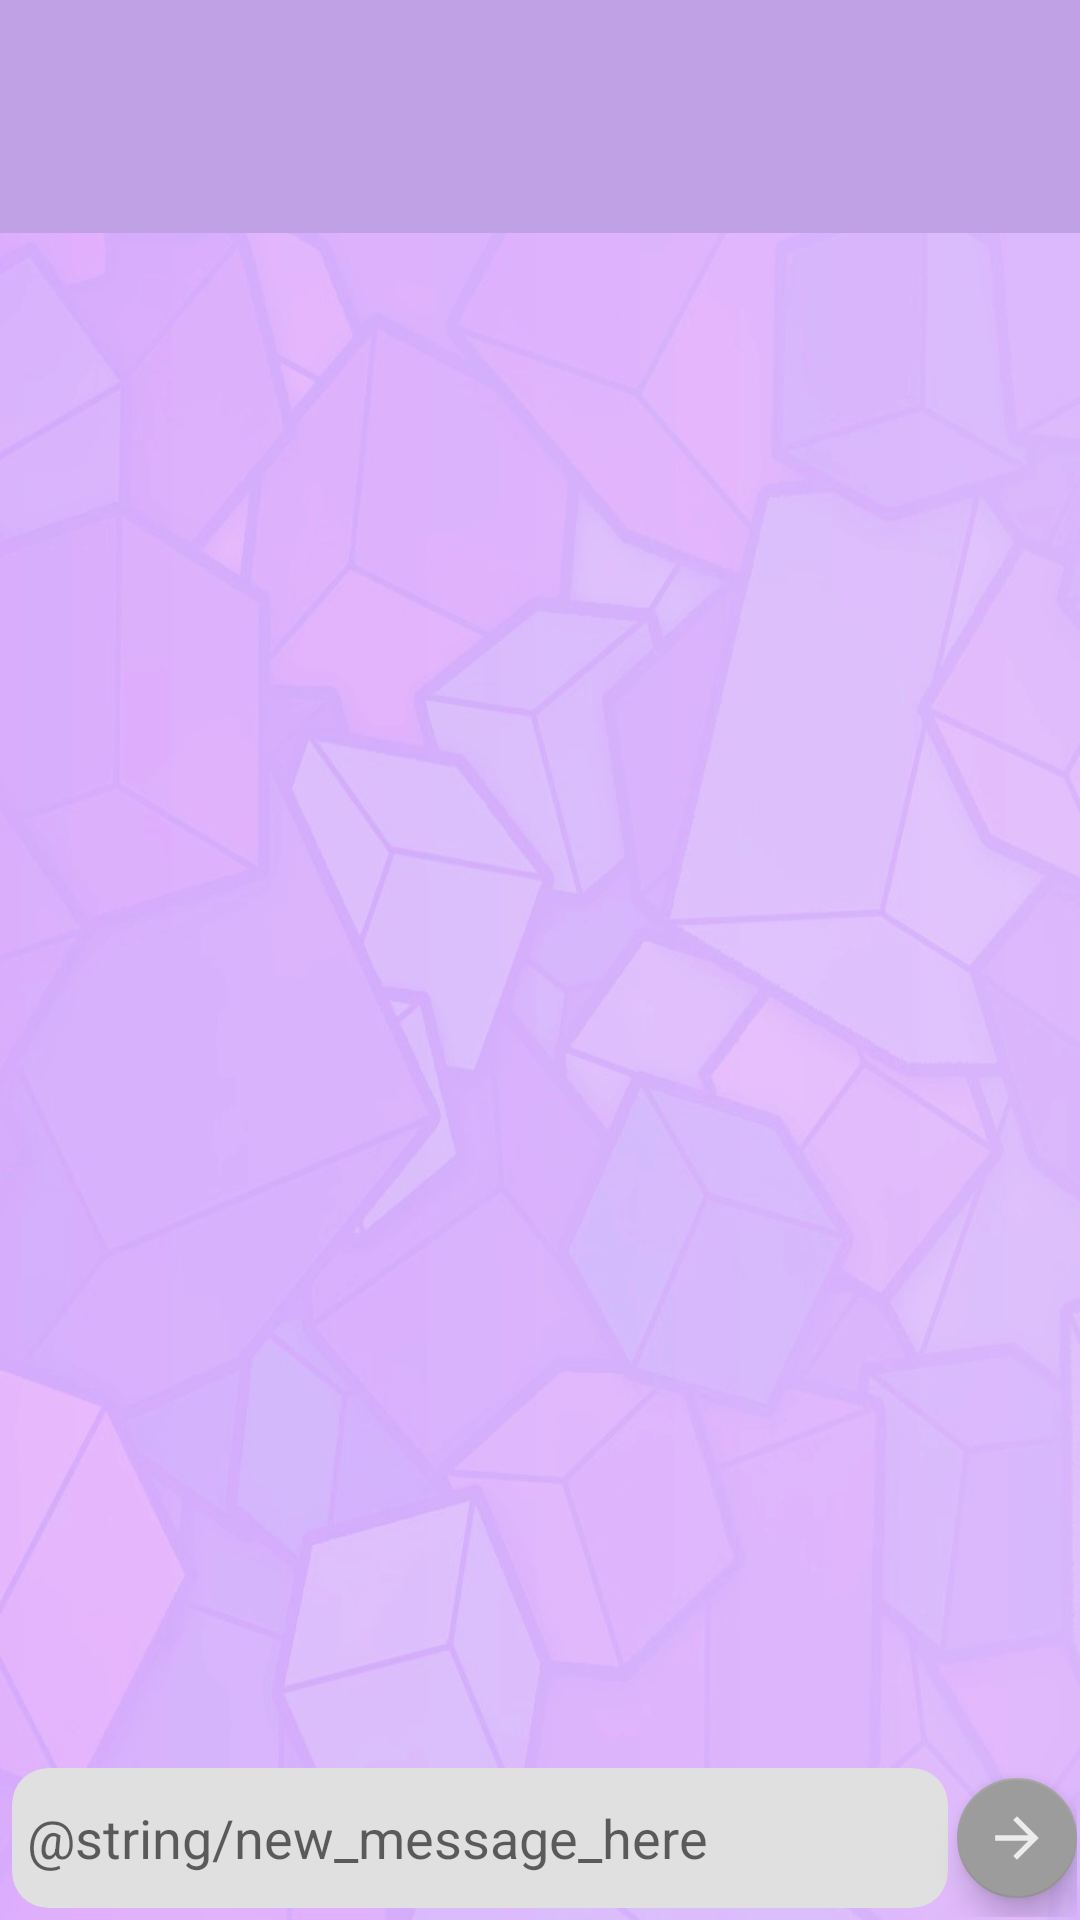

Icon bounding boxes for this 1080 × 1920 phone screenshot, format (x1, y1, x2, y2):
send: (957, 1778, 1077, 1898)
